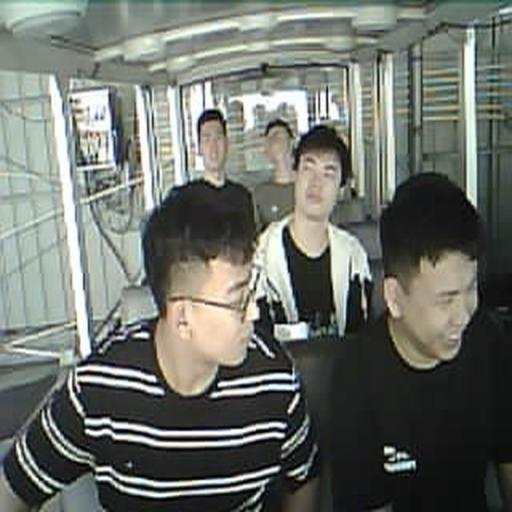persona: (0, 177, 322, 511), (327, 171, 511, 511), (252, 124, 374, 344), (166, 107, 256, 225), (251, 118, 296, 227)
